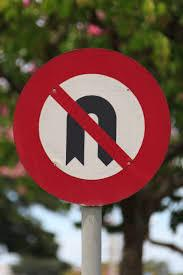no_u_turn: (11, 47, 170, 205)
